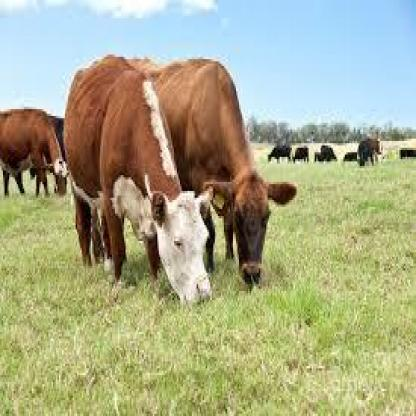cow: (129, 59, 298, 289), (62, 54, 210, 307), (0, 108, 71, 197), (265, 141, 293, 164), (357, 140, 380, 167), (293, 145, 308, 166), (319, 146, 336, 164)
